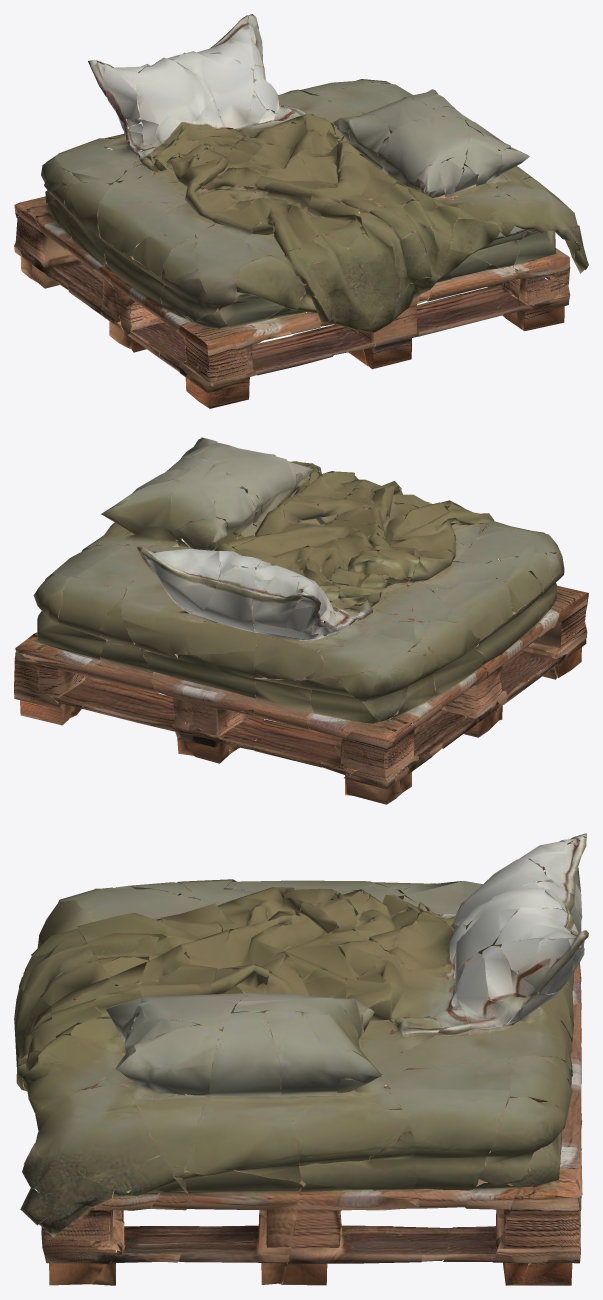
Rendered from Worker_pallet_bed_thick_mattress_wool_blanket-game.glb.
3 views of the same model, one above another, from view 1: azimuth 30°, elevation 25°; view 2: azimuth 150°, elevation 25°; view 3: azimuth 270°, elevation 25° (orthographic). The views are drawn at different scales.
Visible parts, largest first — view 1: Mesh_0; view 2: Mesh_0; view 3: Mesh_0.
Part boxes in pixels (bbox=[...]): Mesh_0: bbox=[14, 14, 588, 408]; Mesh_0: bbox=[14, 437, 588, 804]; Mesh_0: bbox=[14, 833, 588, 1285].
Bounding box in the file's own units: 1.9 × 0.9348 × 1.77.
Materials: 1 (1 with a texture image).
